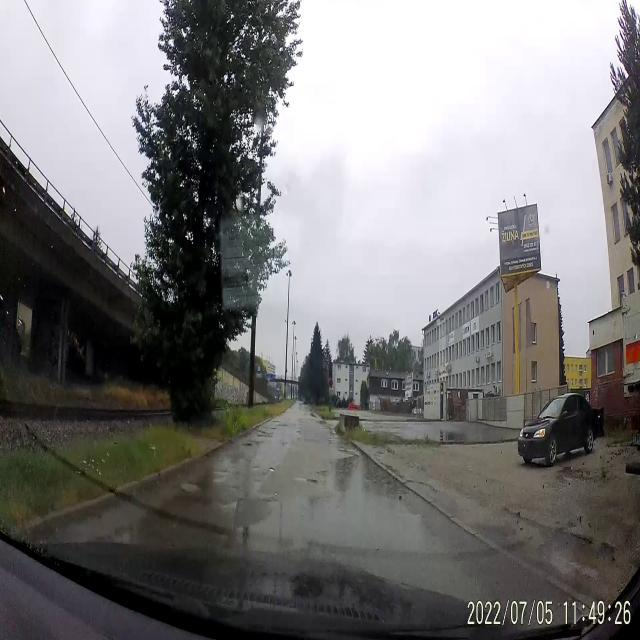Pothole: (180, 479, 200, 501), (240, 438, 262, 449), (258, 430, 274, 441), (314, 468, 330, 478), (304, 476, 318, 487), (263, 426, 277, 431), (279, 422, 288, 428)
